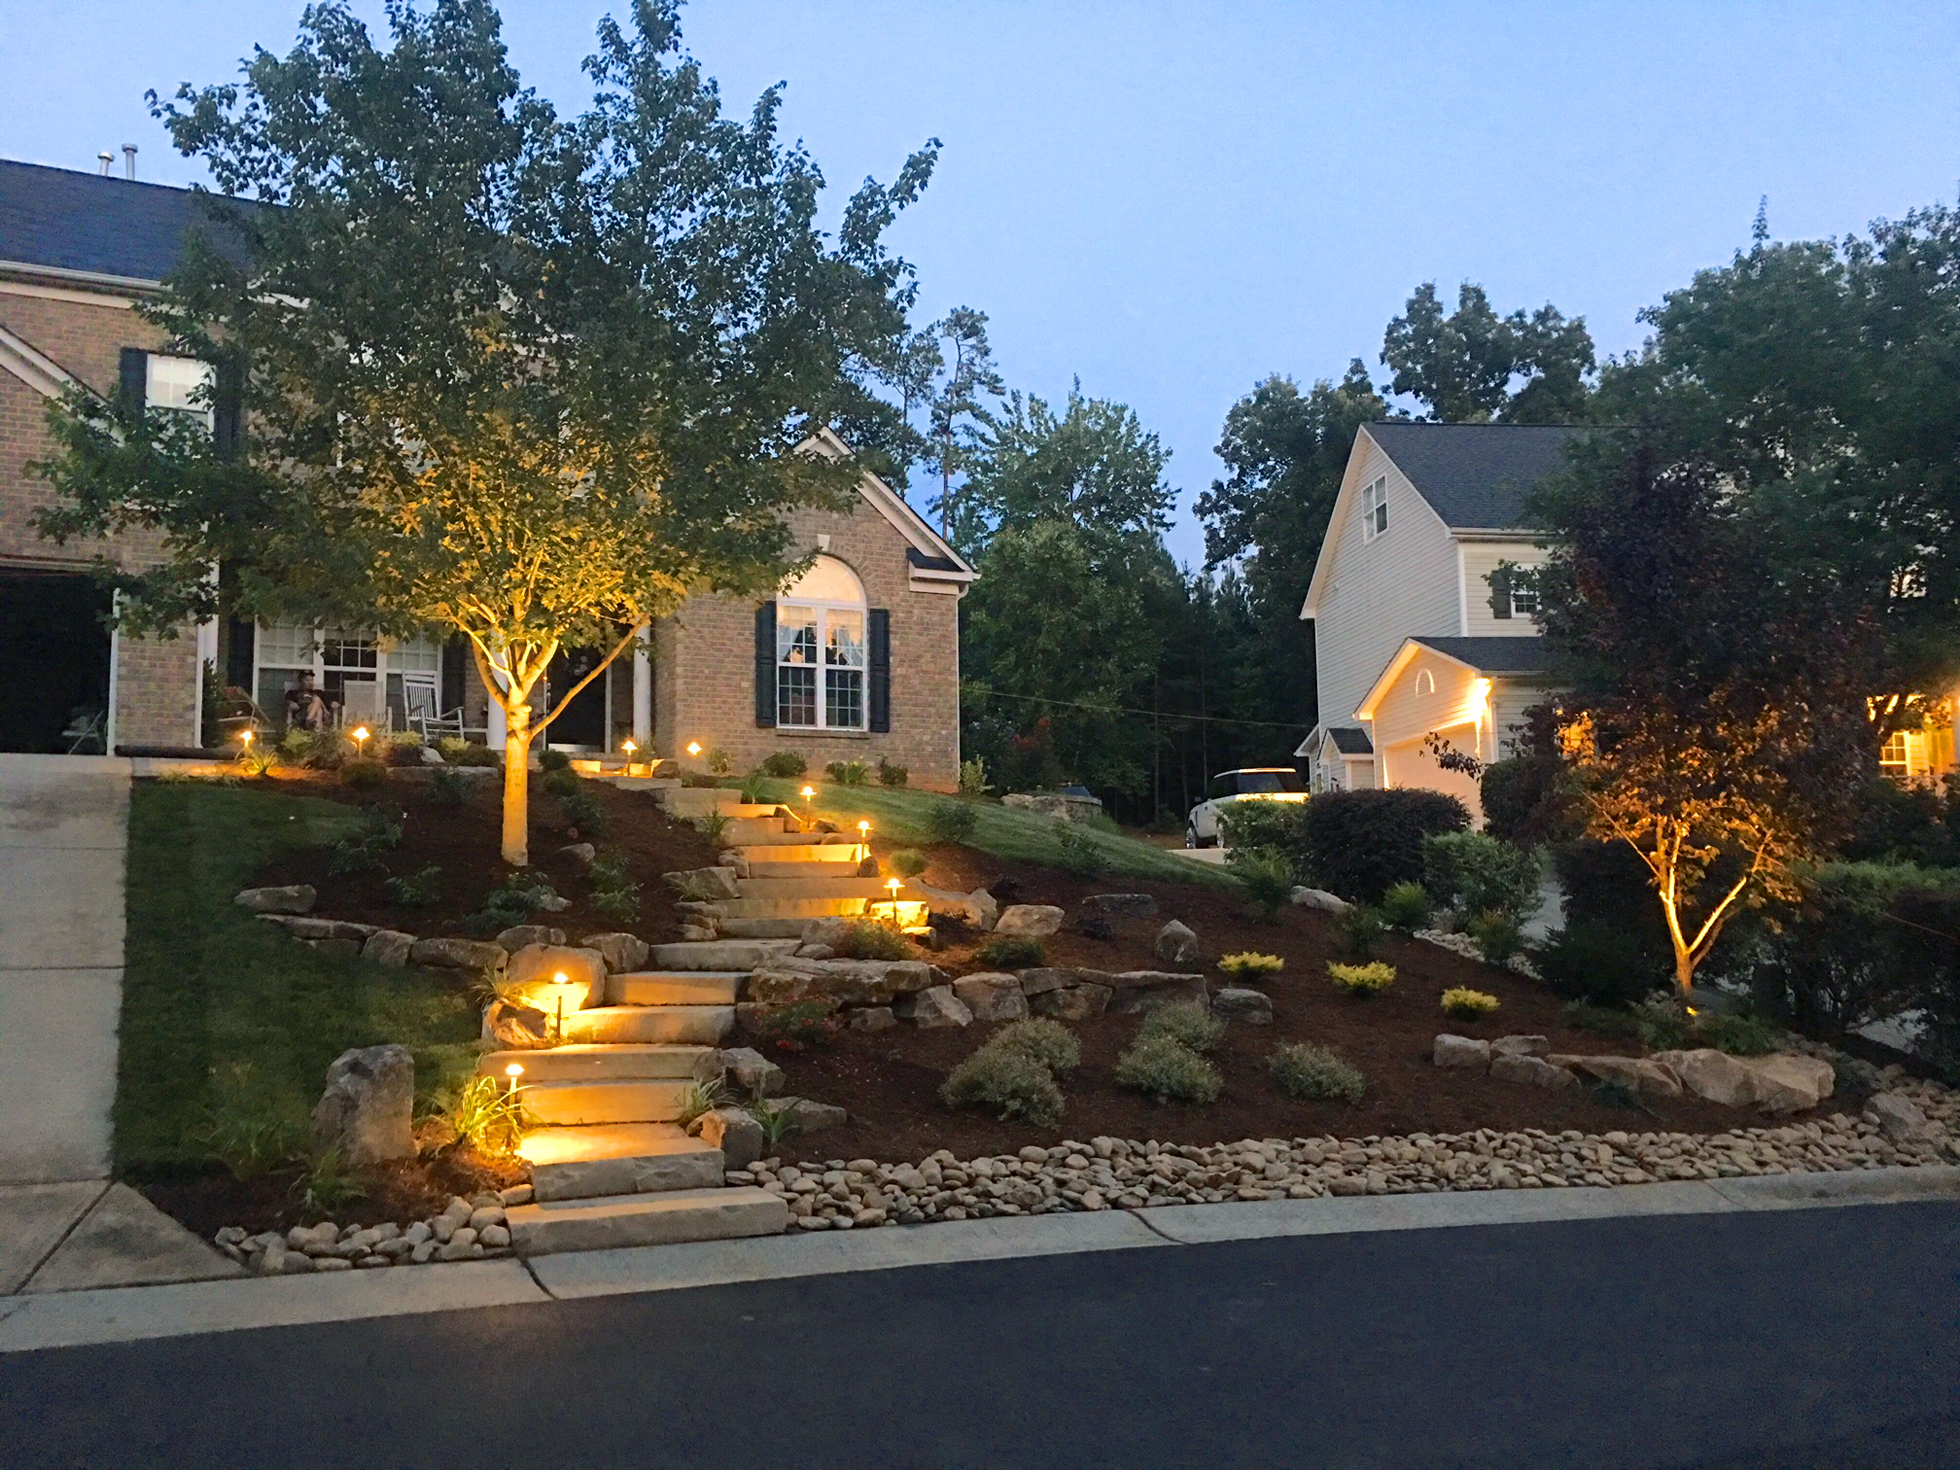tree: (42, 19, 929, 919), (1478, 394, 1915, 1008)
